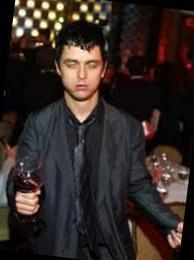Drunk: (60, 43, 107, 99)
